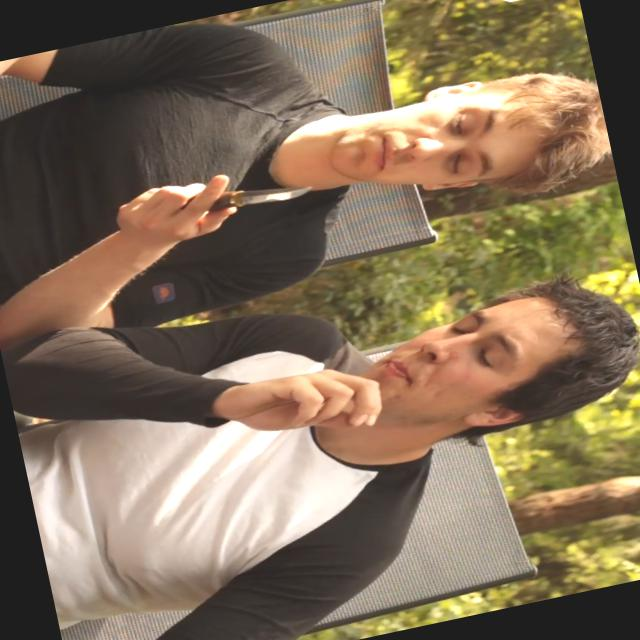knife: (141, 146, 331, 250)
